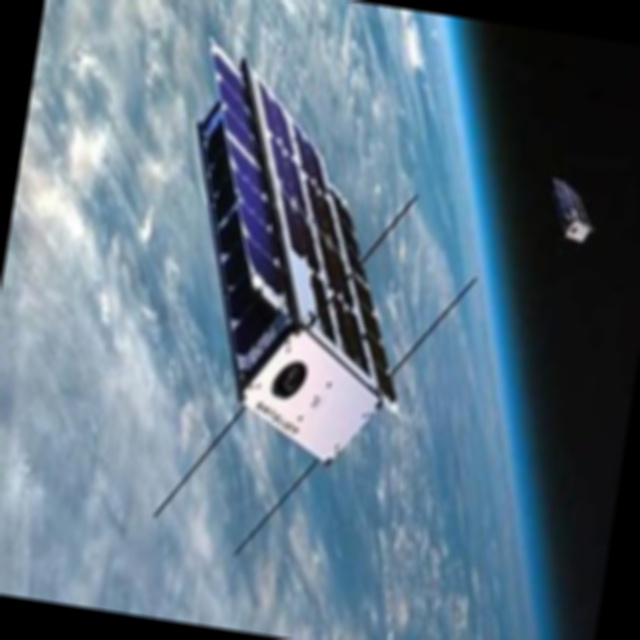satellite: (140, 46, 469, 488), (541, 162, 616, 263)
